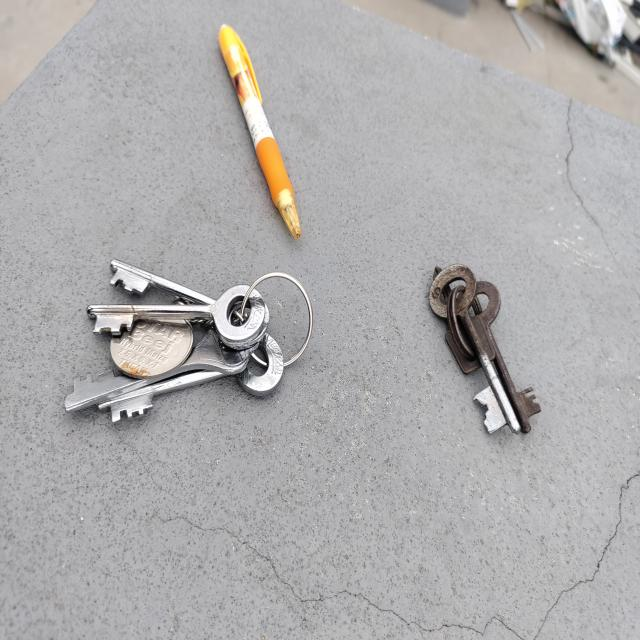metal: (65, 258, 312, 421), (430, 263, 541, 434)
plastic: (218, 21, 301, 235)
